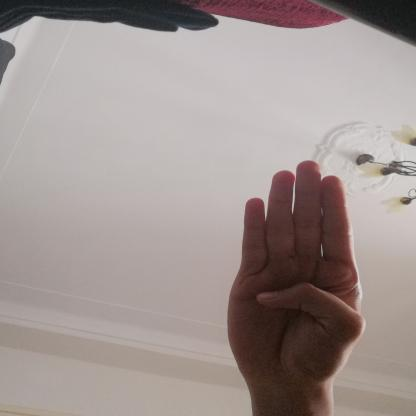KAAF: (202, 148, 383, 402)
